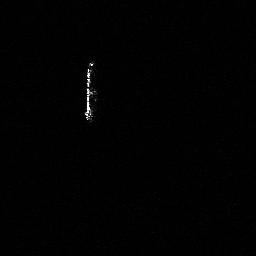ship: (84, 59, 99, 124)
